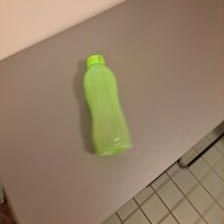bottle: (71, 51, 134, 162)
